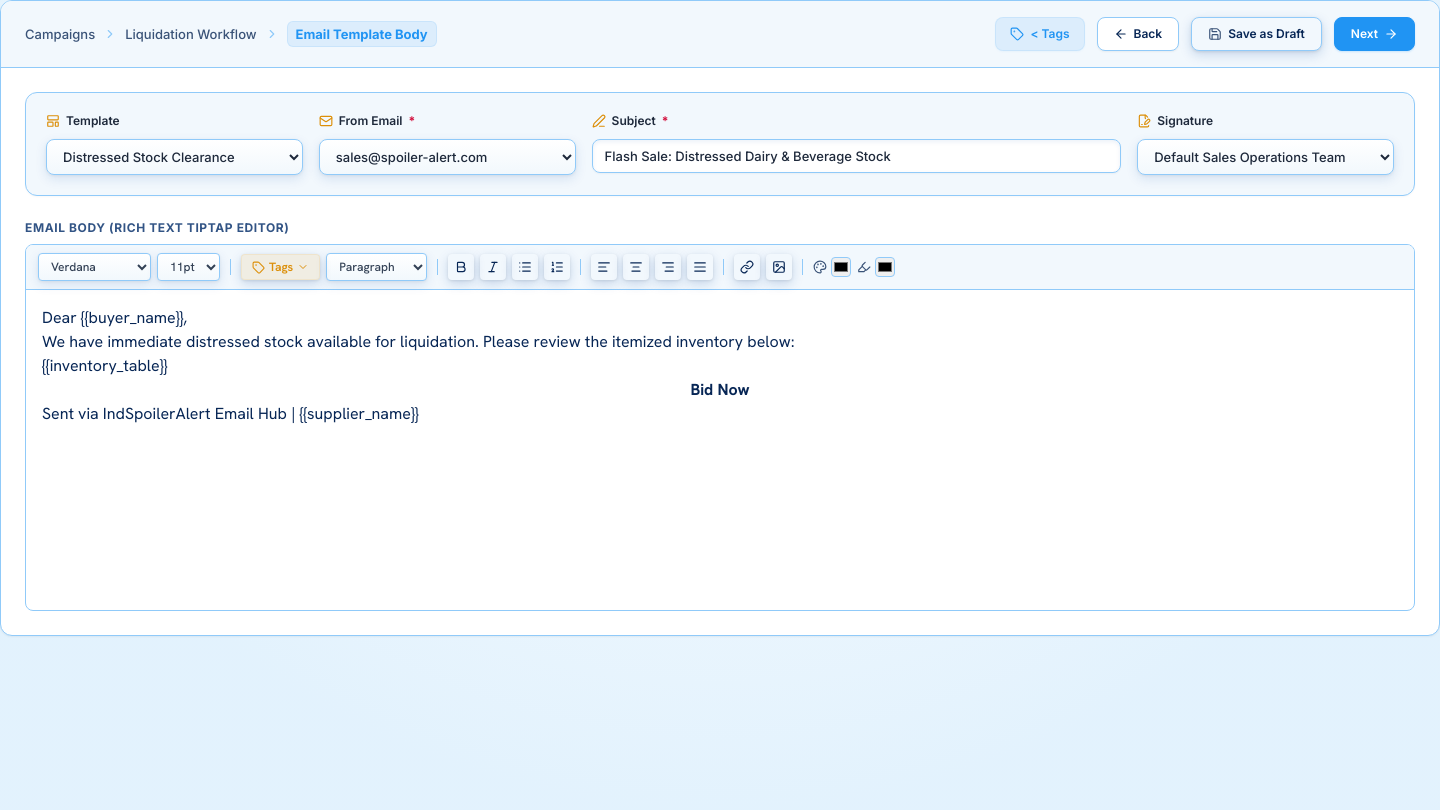
Test: WorkflowEmailBuilder & TipTap Body Editor Integration › opens Link modal and Image insert modal
Test Link Modal
Click the button with test id "btn-link".
click(747, 267)  # box x1=734 y1=254 x2=760 y2=280
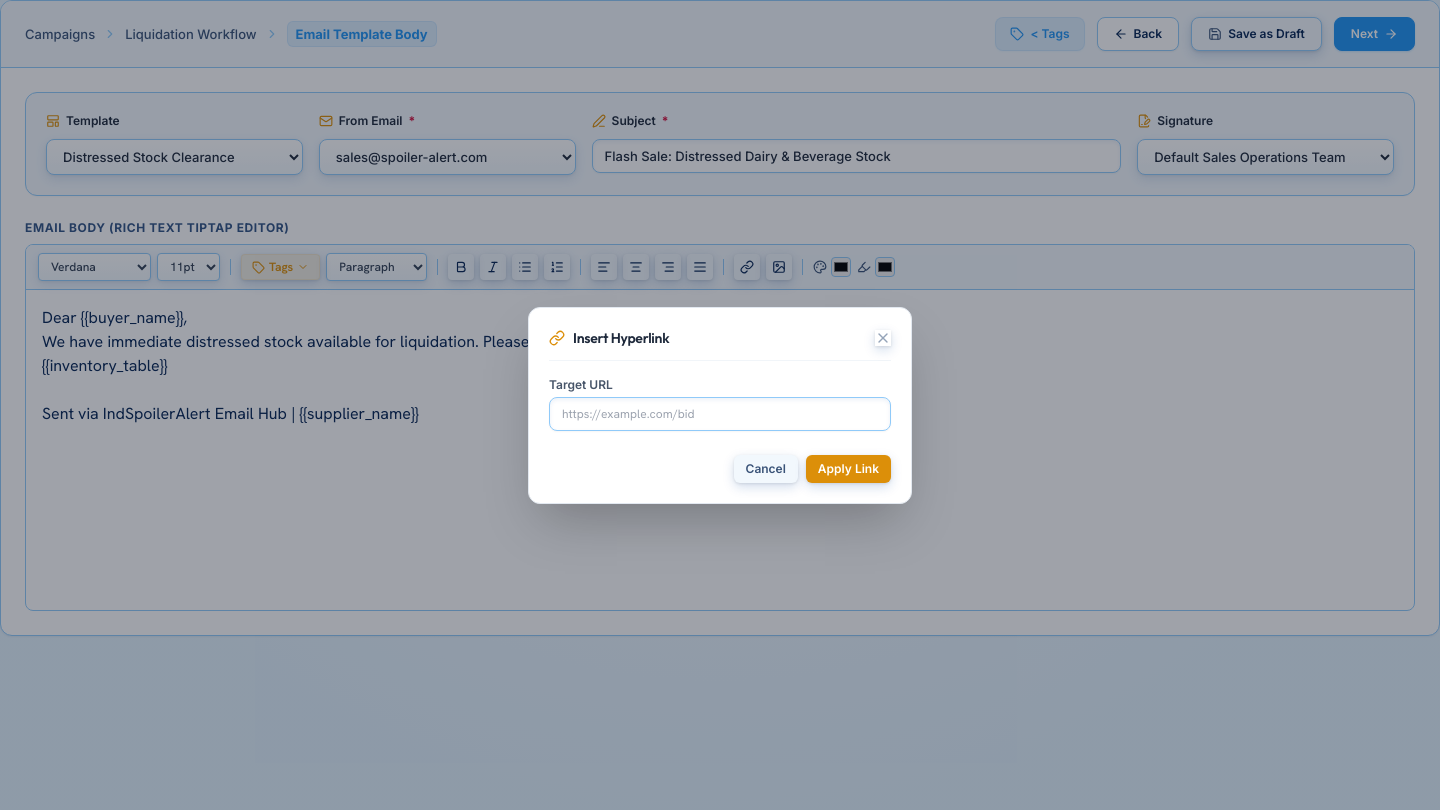
Expected: the heading "Insert Hyperlink" is shown, x1=549 y1=328 x2=669 y2=348
Expected: the field with test id "link-url-input" is shown, x1=549 y1=396 x2=891 y2=430
Close Link Modal
Click the button "Cancel".
click(766, 468)  # box x1=734 y1=454 x2=798 y2=482
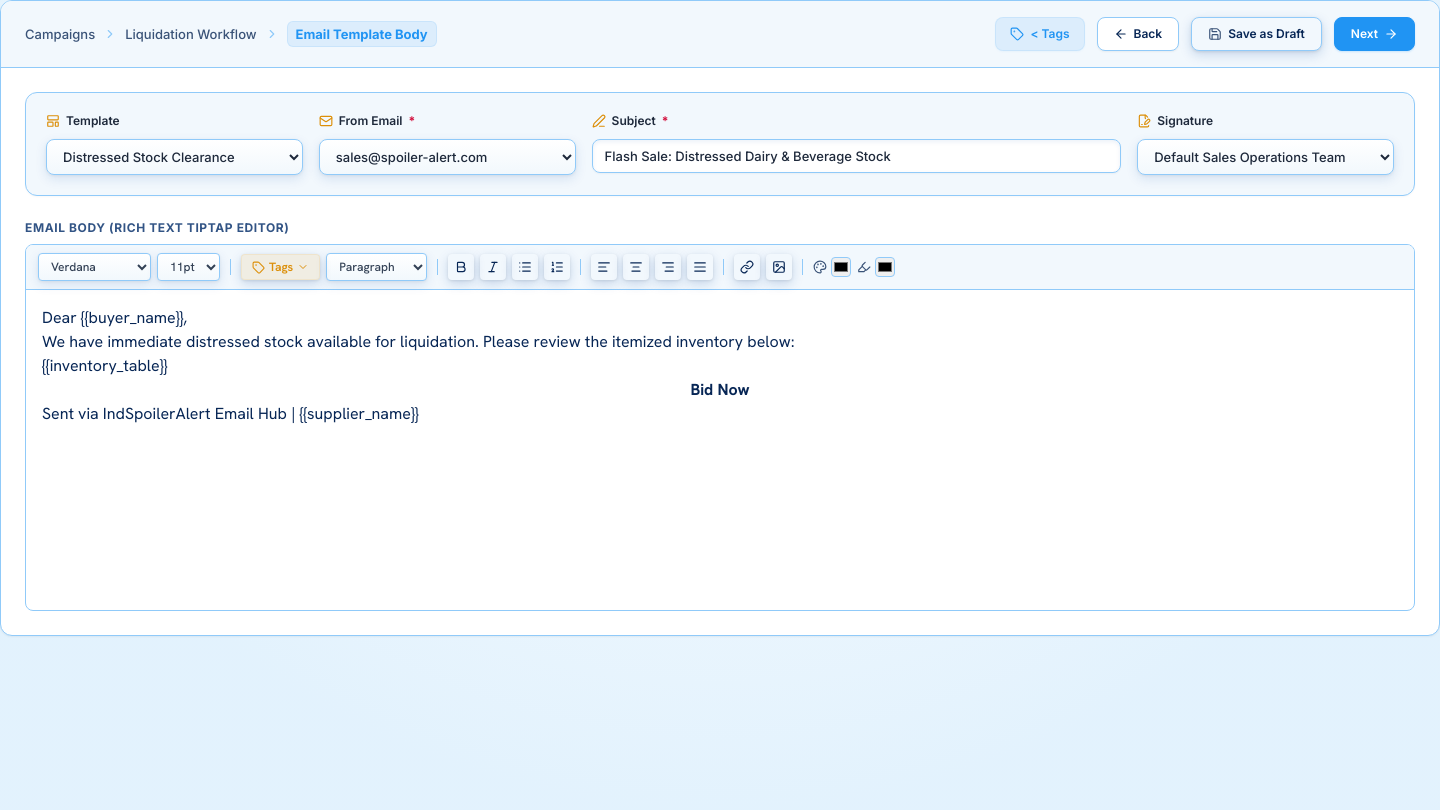
Test Image Modal
Click the button with test id "btn-image".
click(779, 267)  # box x1=766 y1=254 x2=792 y2=280
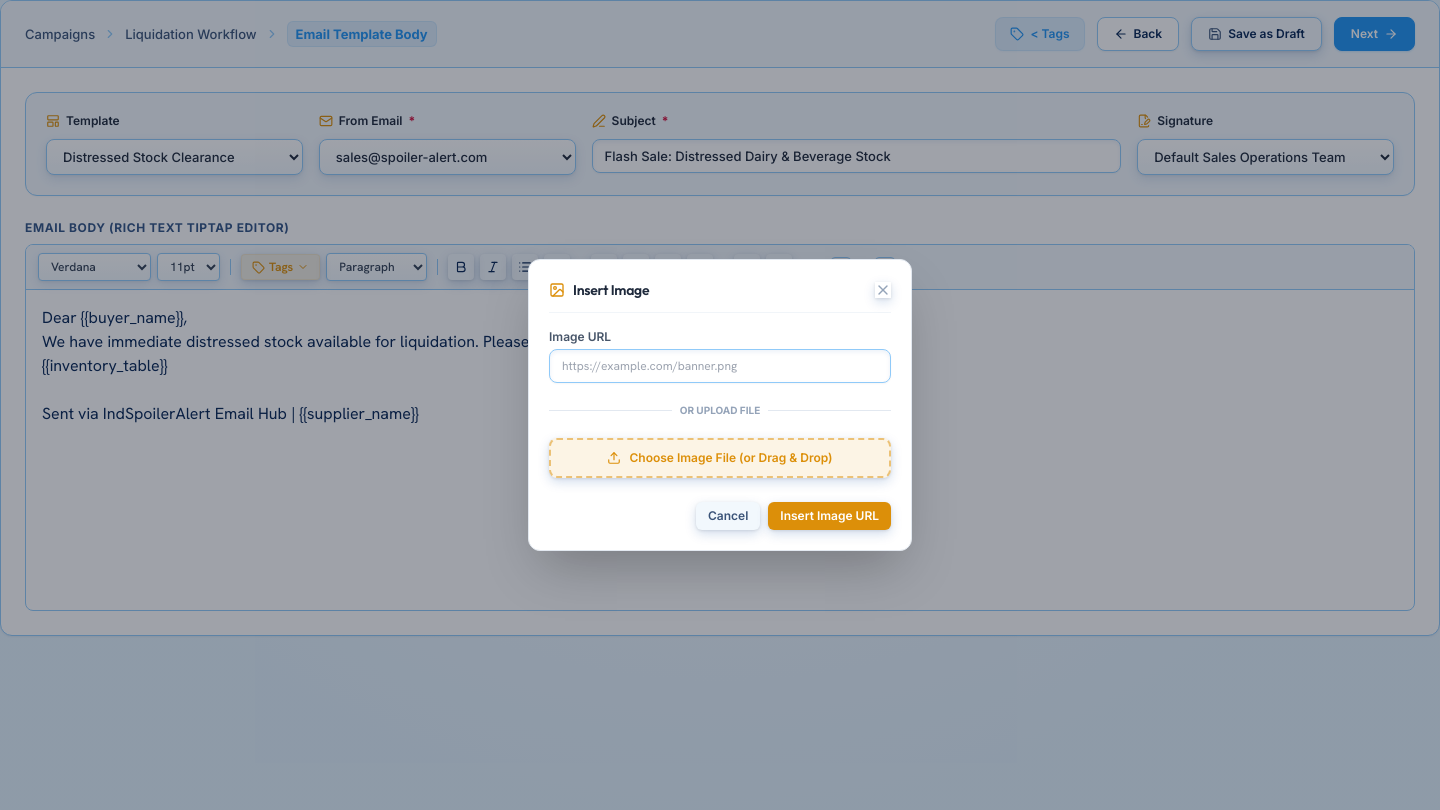
Expected: the heading "Insert Image" is shown, x1=549 y1=280 x2=649 y2=300
Expected: the button with test id "upload-local-file-btn" is shown, x1=549 y1=438 x2=891 y2=478
